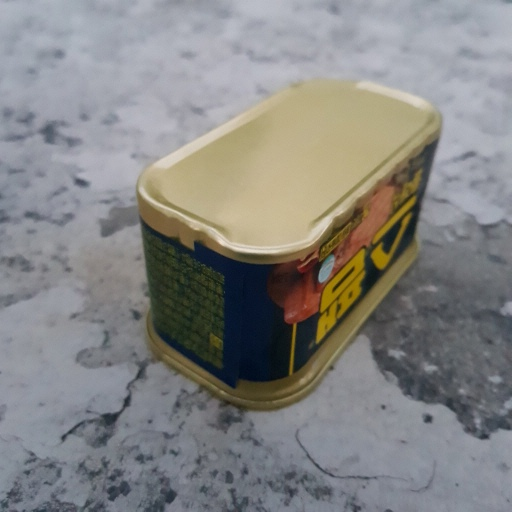Metal_2: (135, 74, 445, 410)
